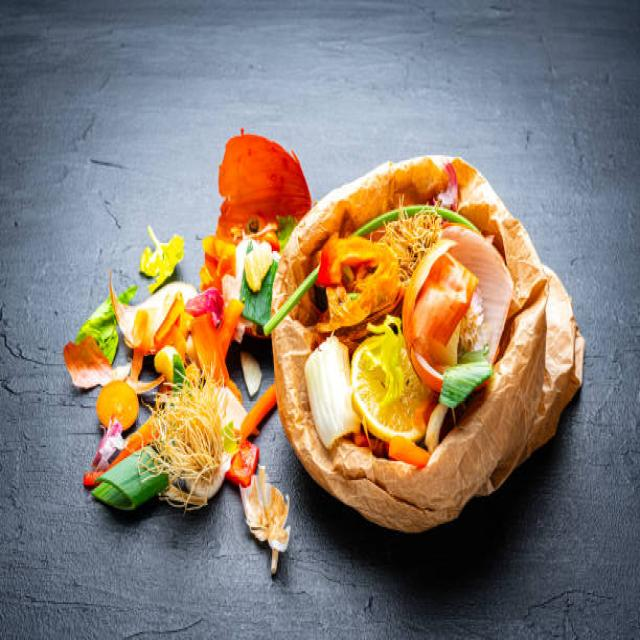paper: (395, 230, 514, 391), (354, 334, 455, 456), (159, 381, 244, 487), (297, 338, 365, 433)
